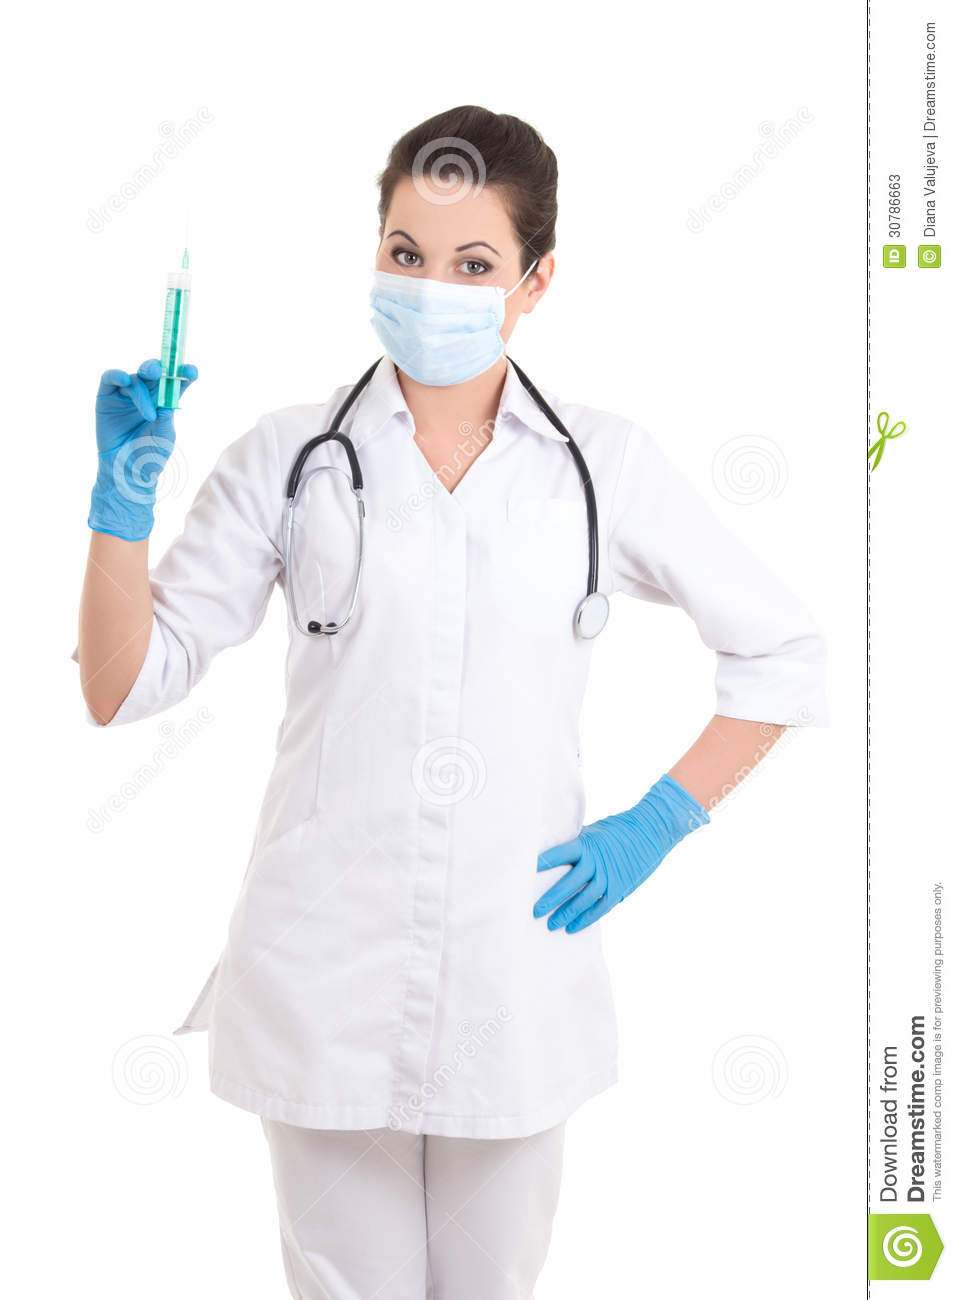mask: (367, 266, 509, 394)
